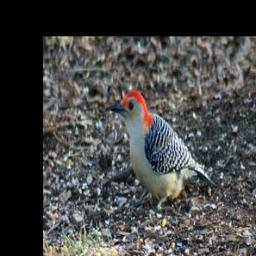Woodpecker: (107, 91, 213, 221)
